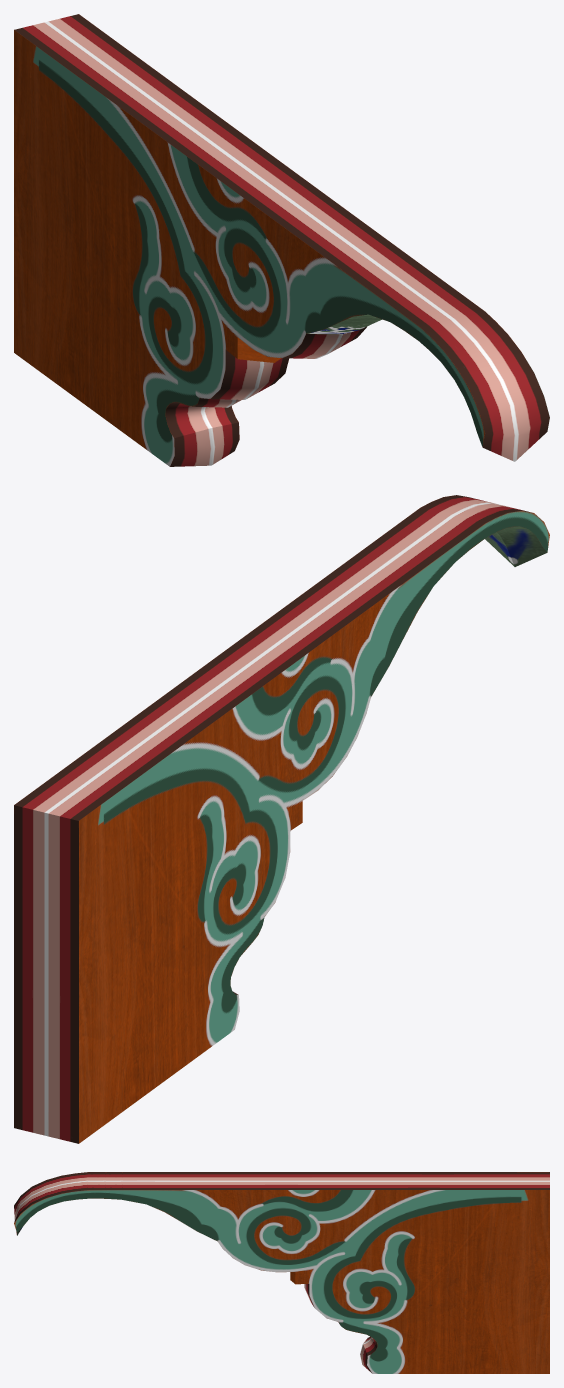
File: SM_Gongpo04Q.fbx
3 views of the same model, one above another, from view 1: azimuth 30°, elevation 25°; view 2: azimuth 150°, elevation 25°; view 3: azimuth 270°, elevation 25° (orthographic). The views are drawn at different scales.
Parts seen in each view (by area): view 1: SM_Gongpo04Q; view 2: SM_Gongpo04Q; view 3: SM_Gongpo04Q.
Boxes of the visible parts, box(x1,y1,x2,y2) form: SM_Gongpo04Q: box(14, 14, 549, 466); SM_Gongpo04Q: box(14, 495, 549, 1143); SM_Gongpo04Q: box(14, 1172, 549, 1373).
Size of the model in its own units: 6.75 by 84.84 by 32.08.
